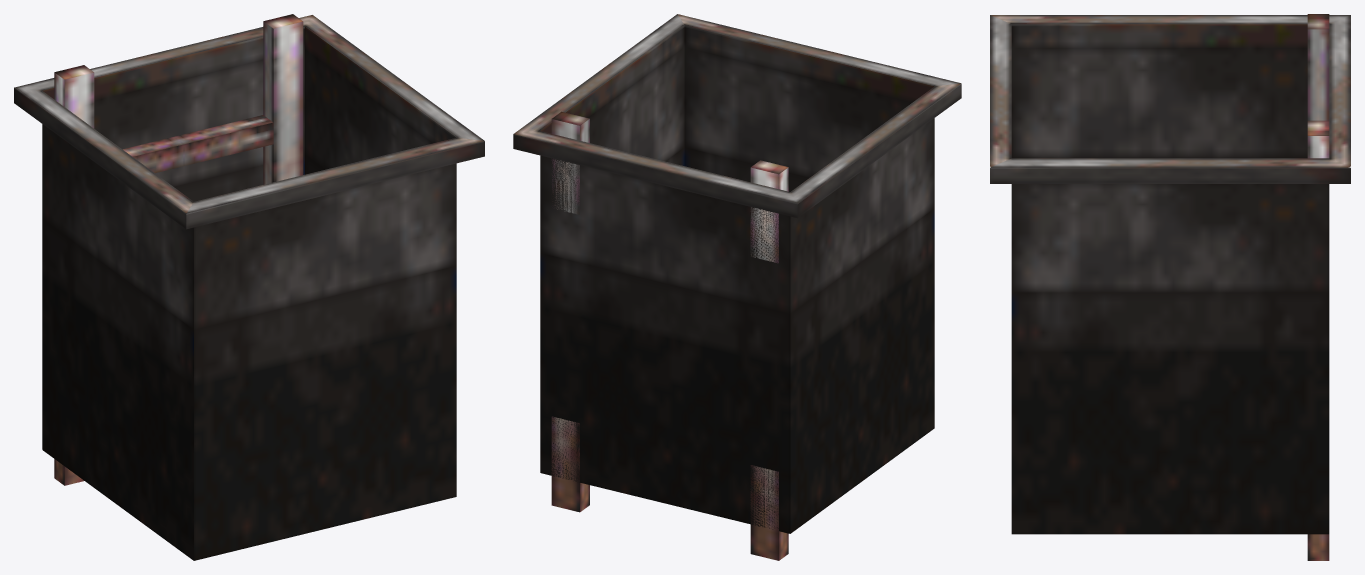
The model's file is Poly_SF_Outside_B_Hole_Metal_Ladder_01.obj.
3 renders of one model, left to right at view 1: azimuth 30°, elevation 25°; view 2: azimuth 150°, elevation 25°; view 3: azimuth 270°, elevation 25°, orthographic. The views are drawn at different scales.
Parts seen in each view (by area): view 1: Cube, Cube.001; view 2: Cube, Cube.001; view 3: Cube, Cube.001.
Boxes of the visible parts, x1,y1,x2,y2 form: Cube: (14, 15, 484, 560); Cube.001: (54, 14, 303, 485); Cube: (513, 14, 961, 533); Cube.001: (551, 111, 788, 560); Cube: (990, 15, 1350, 534); Cube.001: (1307, 14, 1329, 560).
Size of the model in its own units: 1 by 1.3 by 1.
Materials: 1 (1 with a texture image).
